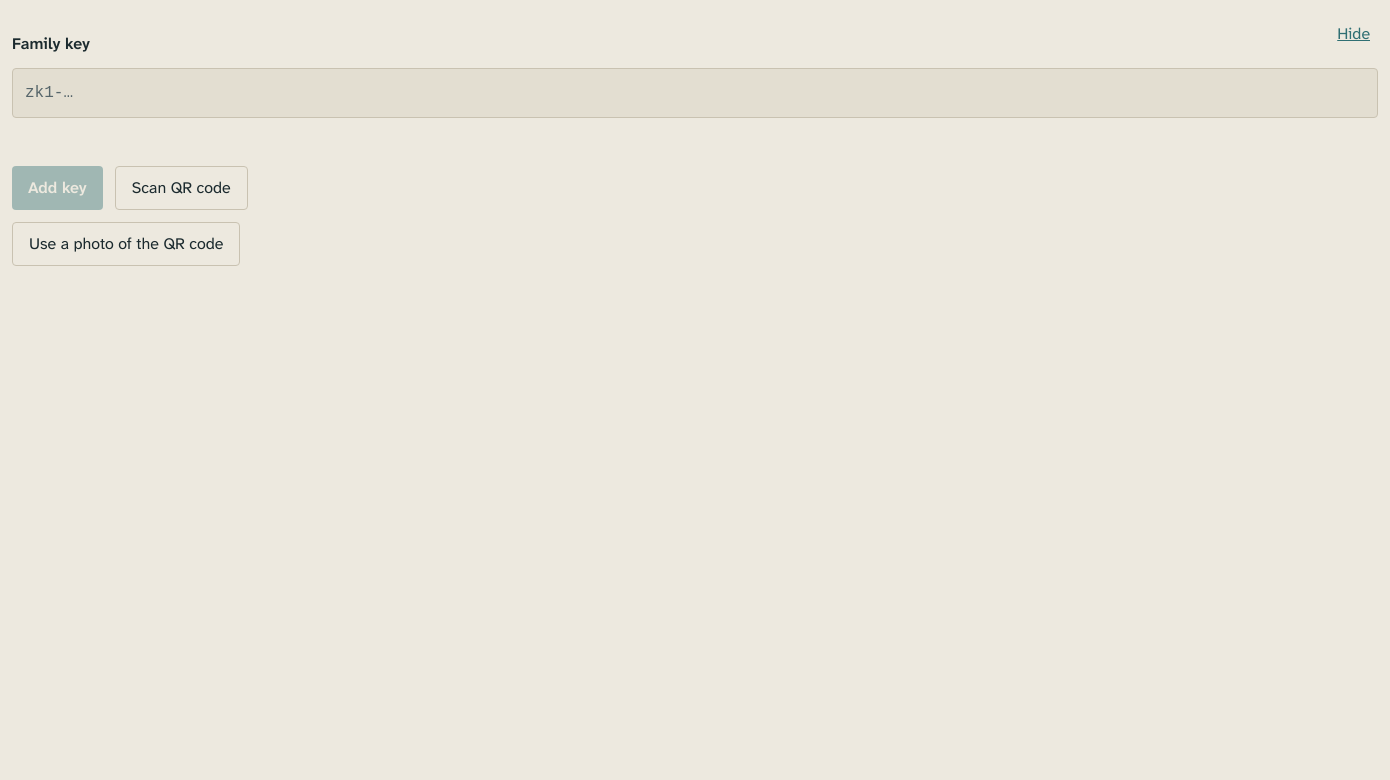
KeyImport success panel › mismatch offers Remove this key, which sends key.forget
This screenshot has width=1390, height=780.
Type "zk1-000102030405060708090a0b0c0d0e0f101112131415161718191a1b1c1d1e1f-2418" into the field labelled "Family key" at (695, 93), box [12,68,1378,118]
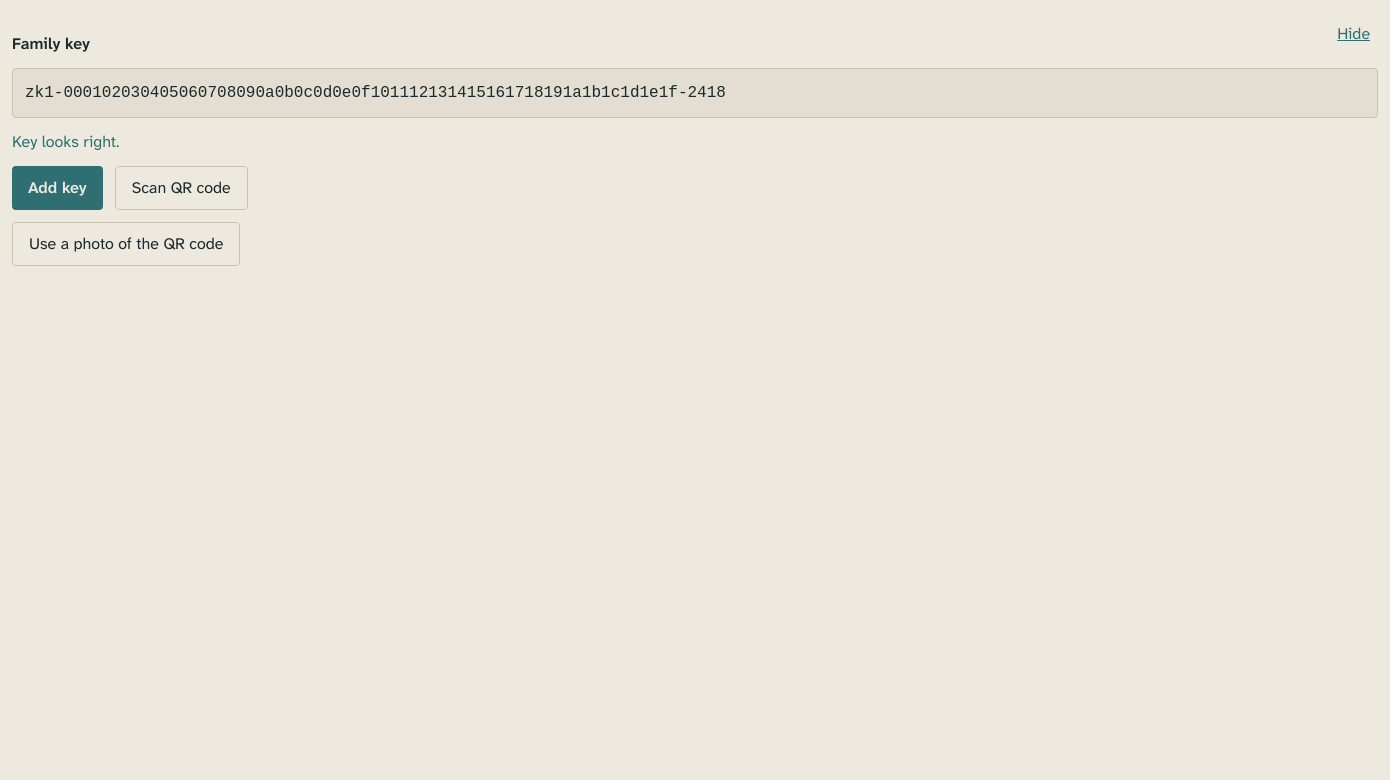
Click the button "Add key" at (57, 188), box [12,166,103,210]
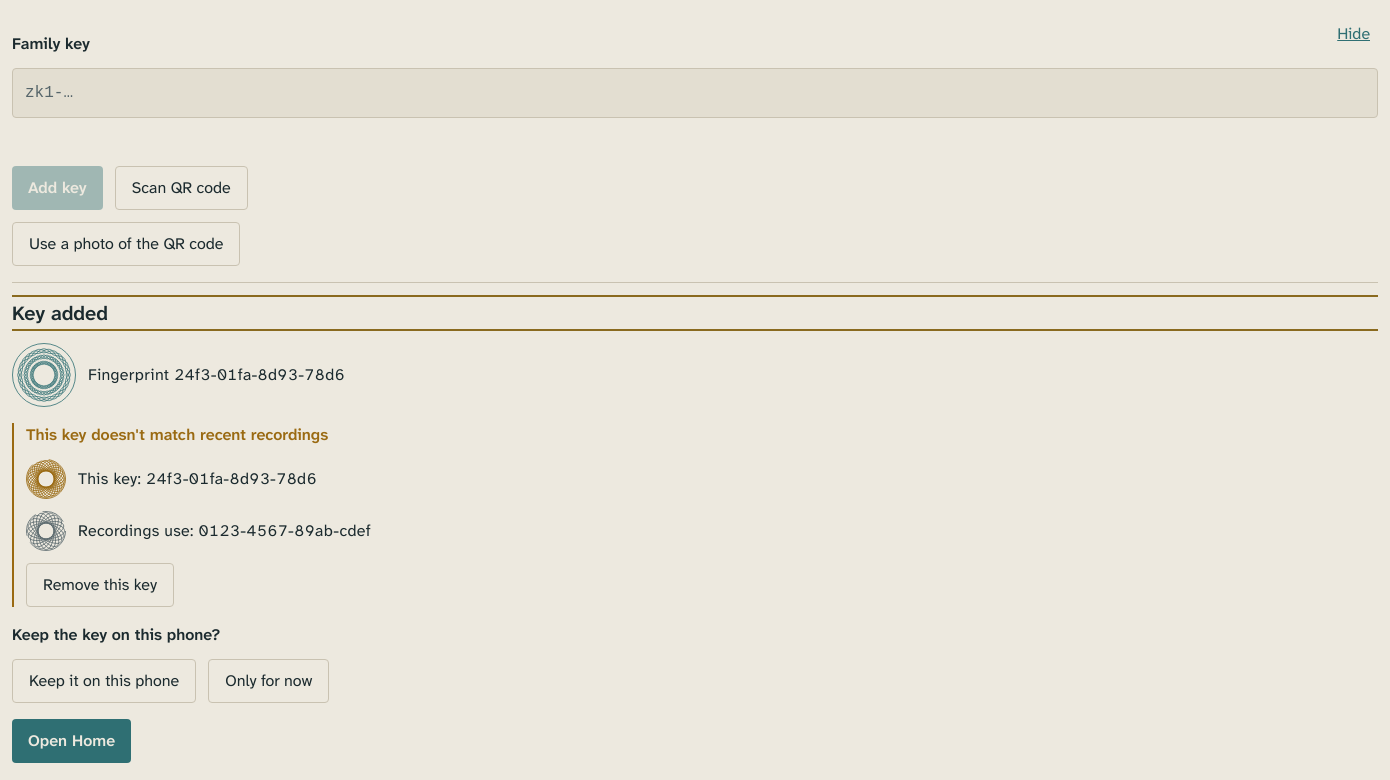
expect the message that starts with "This key doesn't match recent recordings" is shown: met, box [26,424,328,445]
expect the message that starts with "This key doesn't match recent recordings" shows "0123-4567-89ab-cdef": met, box [78,520,371,541]
Click the button "Remove this key" at (100, 585), box [26,563,174,607]
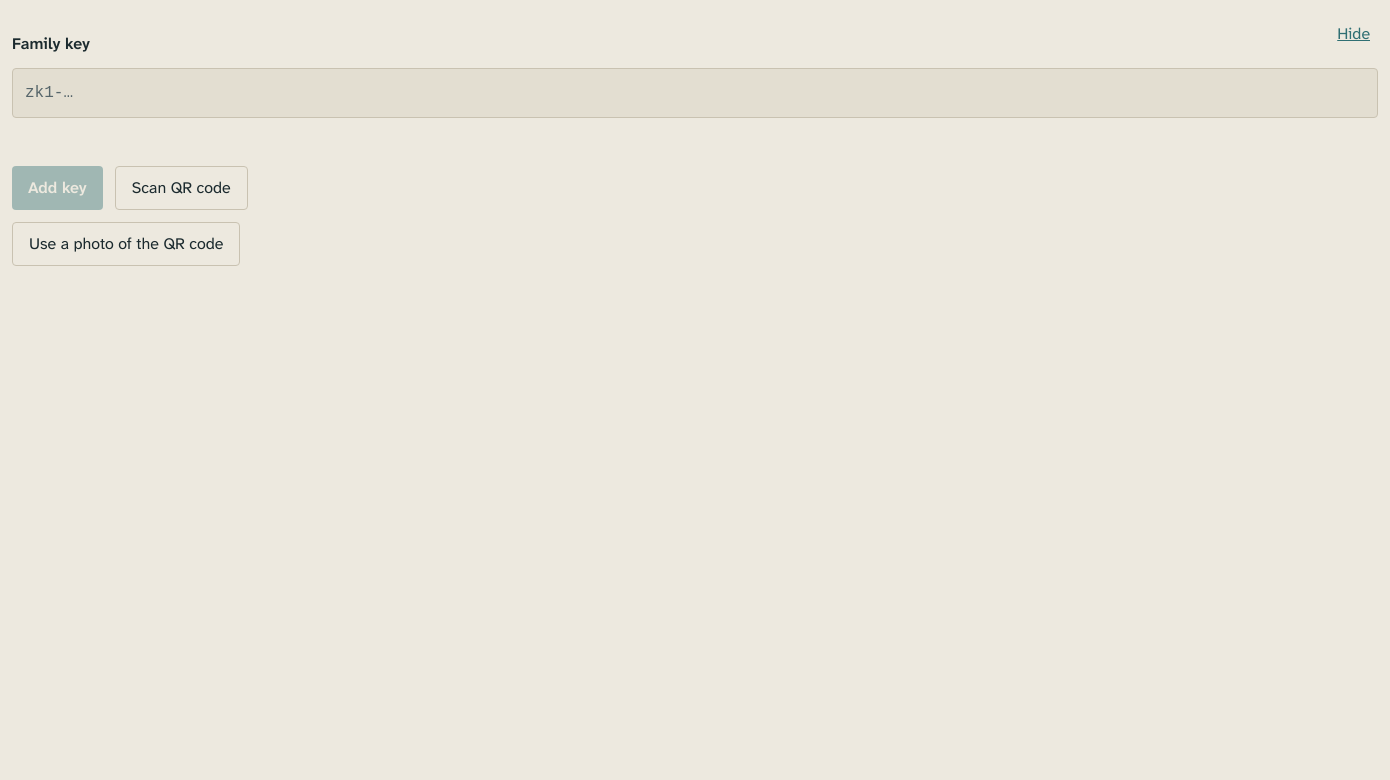
expect the heading "Key added" is gone: met
